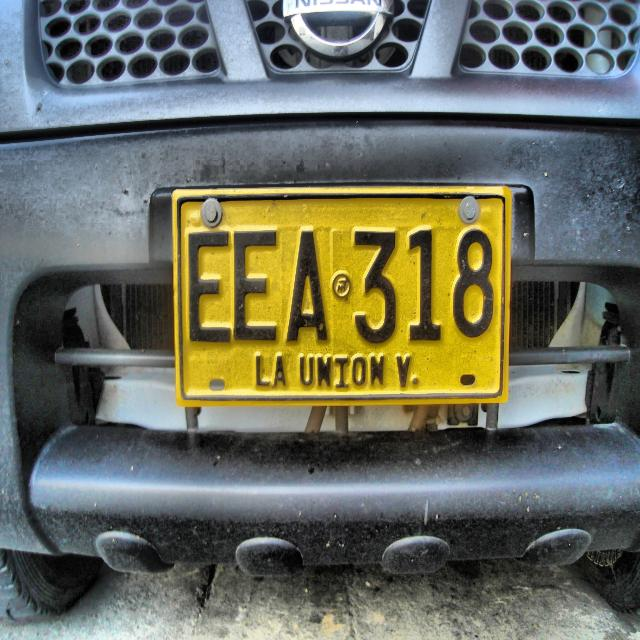plate: (175, 192, 507, 404)
